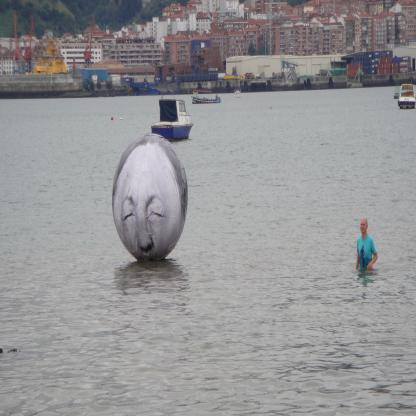Ball: (112, 136, 188, 265)
